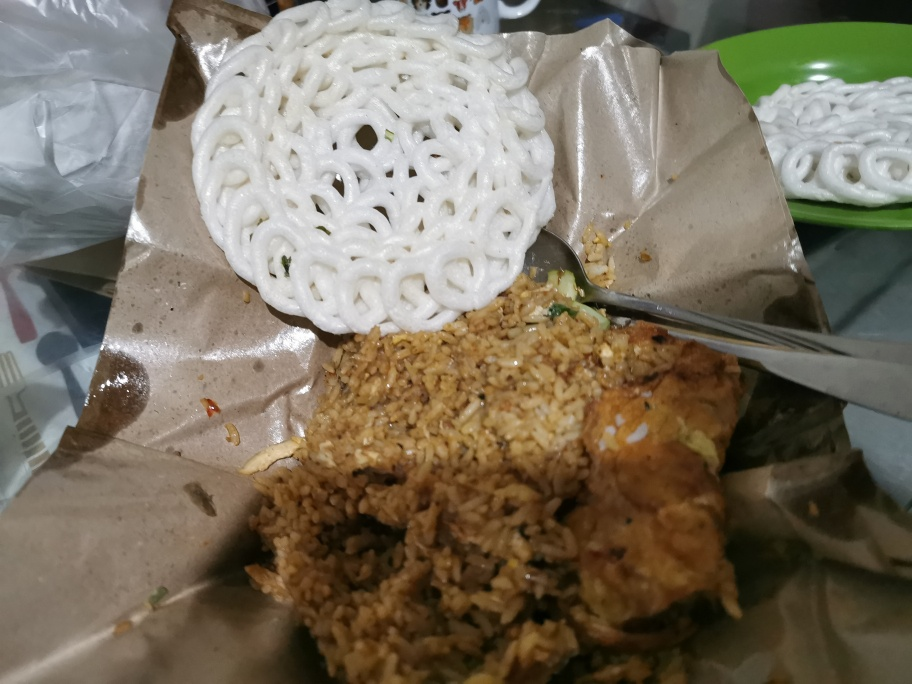kerupuk: (191, 1, 556, 328)
nasi goreng: (269, 329, 751, 684)
